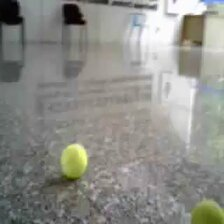tennis: (60, 143, 87, 177), (190, 200, 224, 224)
